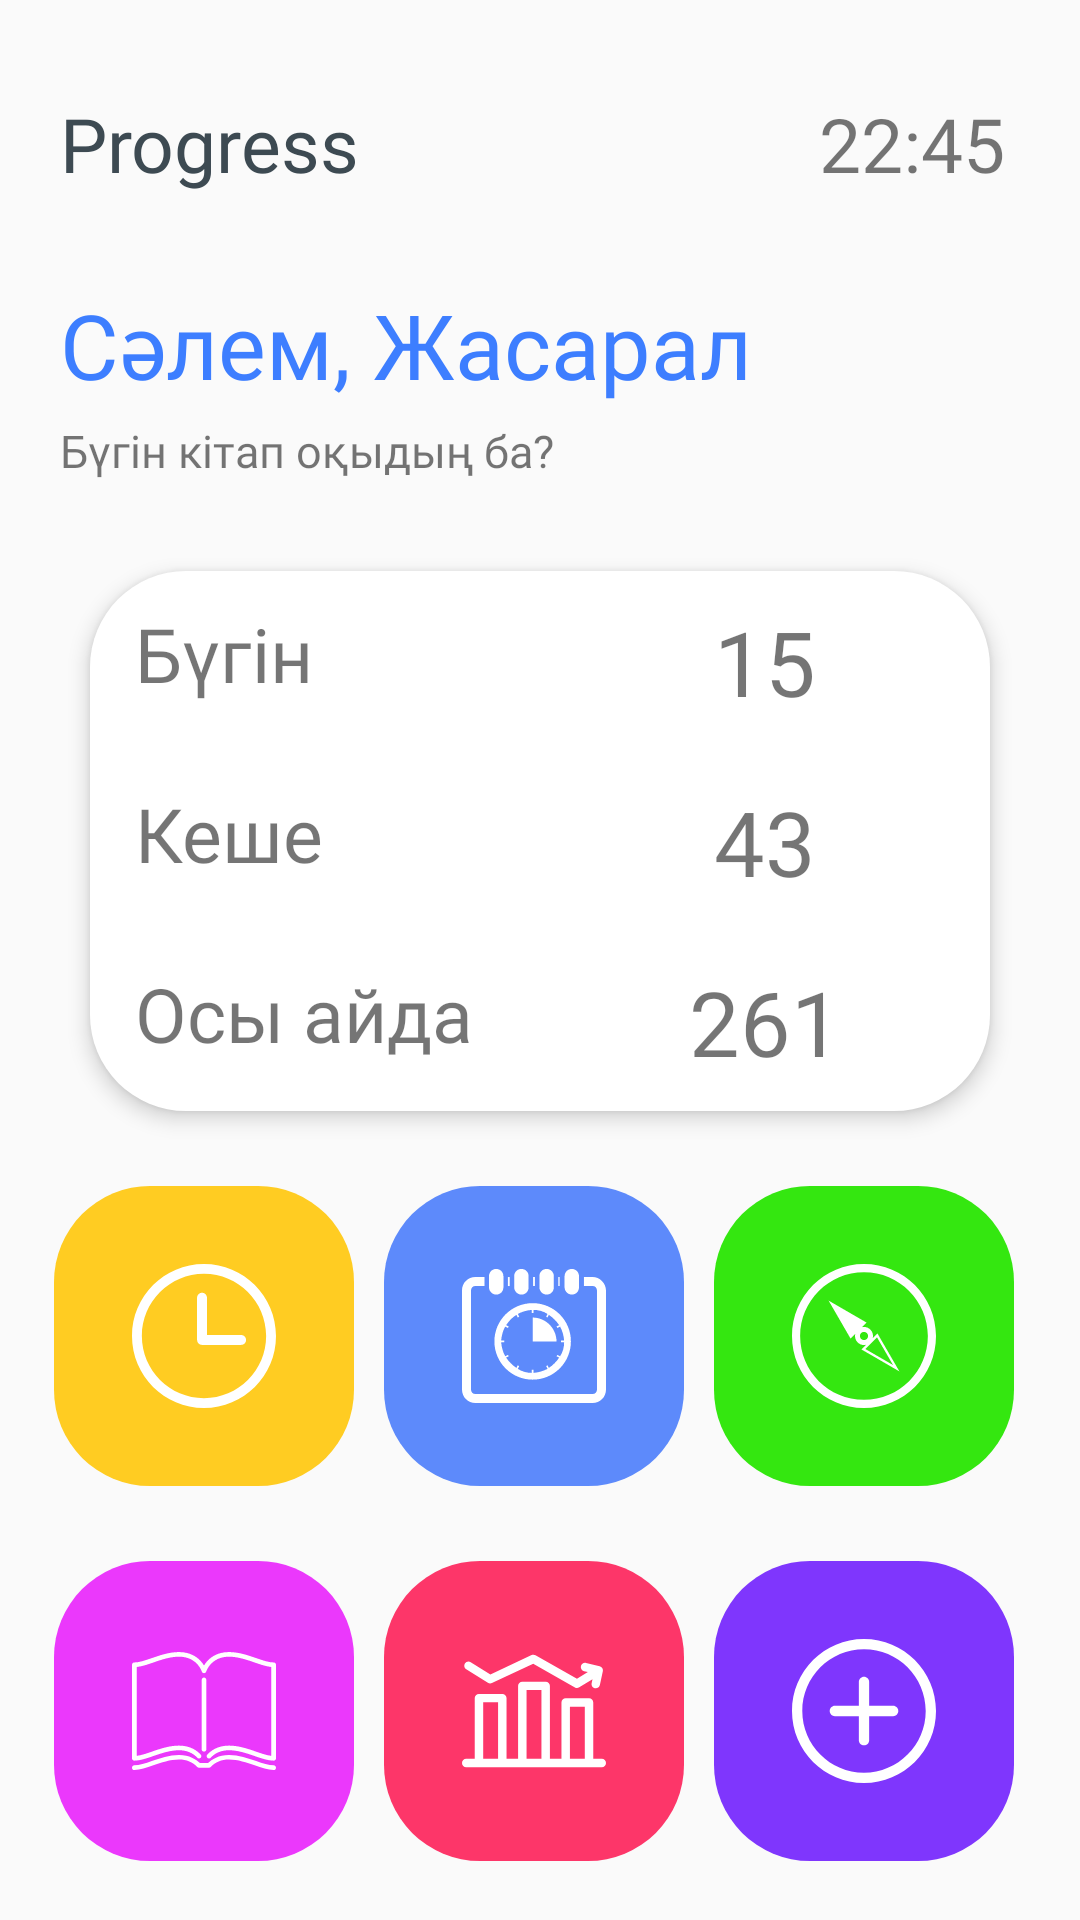

Where icons sit on this 1080px x 1920px app screen, as rect(x1, y1, x2, y2):
add: rect(714, 1561, 1014, 1861)
book time: rect(54, 1561, 354, 1861)
history: rect(54, 1186, 354, 1486)
qaaba: rect(714, 1186, 1014, 1486)
stat: rect(384, 1561, 684, 1861)
time planning: rect(384, 1186, 684, 1486)
